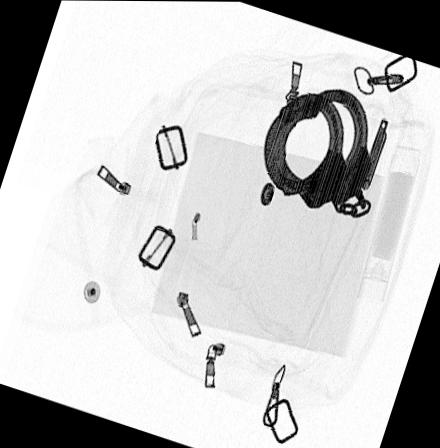HandCuffs: (262, 86, 388, 217)
